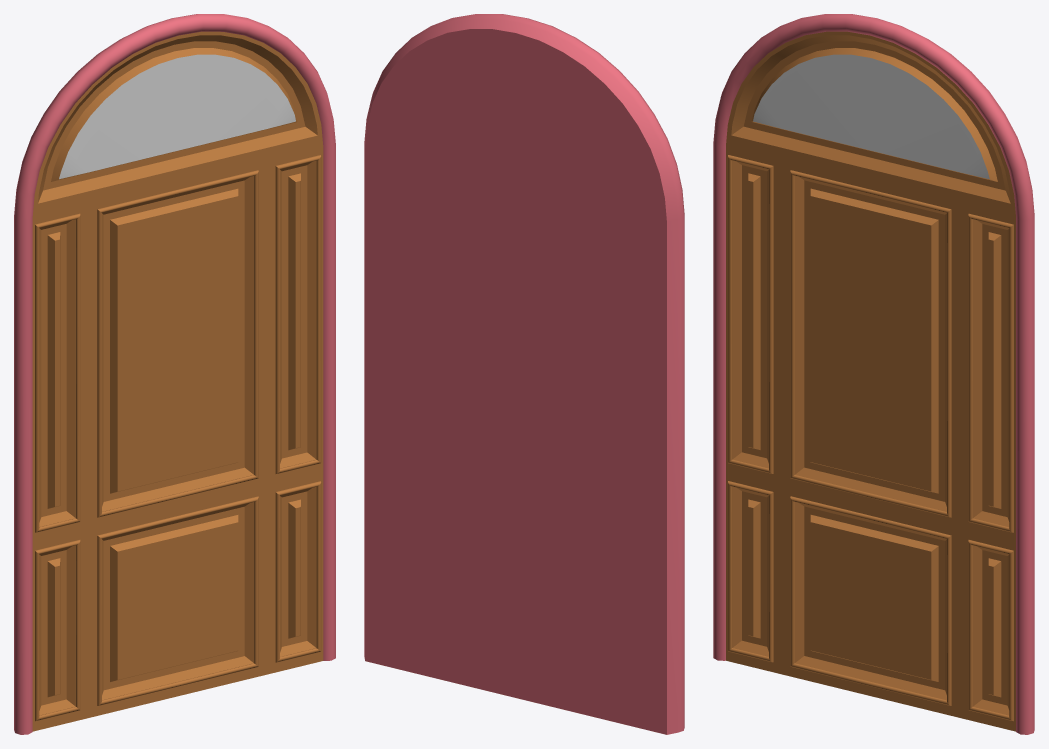
File: SP_House08_Door01.fbx
The picture shows the model from 3 angles, left to right: view 1: azimuth 30°, elevation 25°; view 2: azimuth 150°, elevation 25°; view 3: azimuth 330°, elevation 25°; orthographic projection.
Visible parts, largest first — view 1: SP_House08_Door01; view 2: SP_House08_Door01; view 3: SP_House08_Door01.
Part boxes in pixels (x1,y1,x2,y2): SP_House08_Door01: [14, 14, 335, 734]; SP_House08_Door01: [364, 14, 684, 734]; SP_House08_Door01: [713, 14, 1034, 734].
Bounding box in the file's own units: 1.7 × 3.44 × 0.1239.
